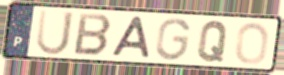A: (109, 14, 152, 60)
B: (72, 12, 115, 58)
G: (154, 16, 192, 62)
O: (234, 21, 271, 66)
Q: (196, 19, 231, 64)
U: (35, 8, 76, 57)
